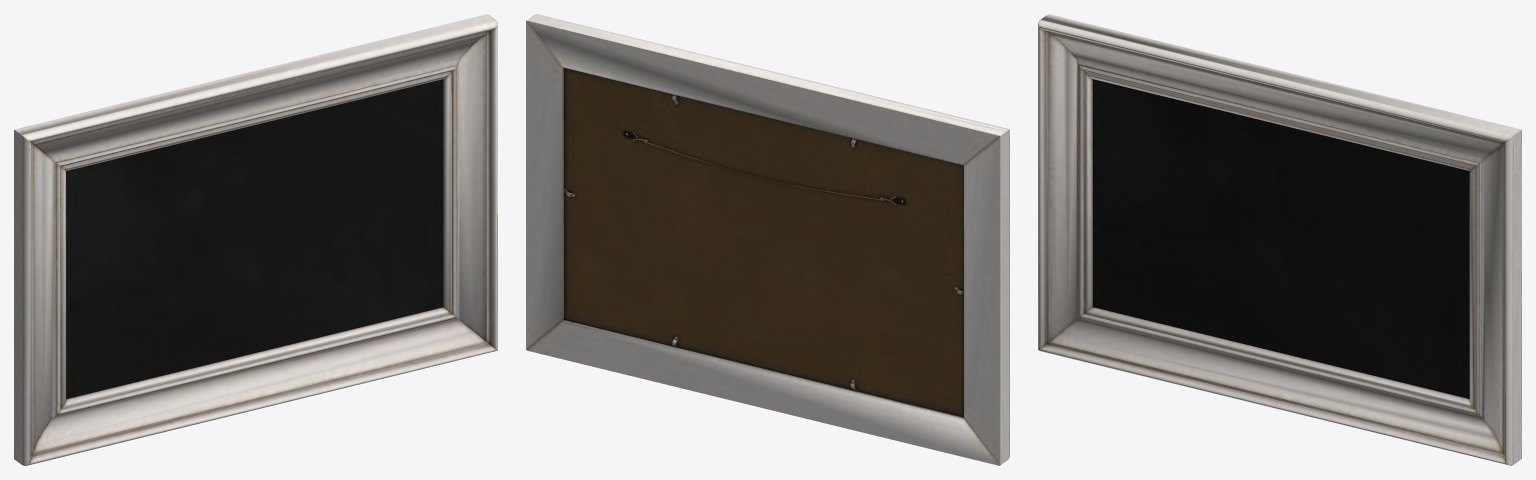
The model's file is hanging_picture_frame_02.gltf.
3 views of the same model, side by side, from view 1: azimuth 30°, elevation 25°; view 2: azimuth 150°, elevation 25°; view 3: azimuth 330°, elevation 25° (orthographic).
Parts seen in each view (by area): view 1: hanging_picture_frame_02; view 2: hanging_picture_frame_02; view 3: hanging_picture_frame_02.
Boxes of the visible parts, box(x1,y1,x2,y2) form: hanging_picture_frame_02: box(14, 14, 497, 465); hanging_picture_frame_02: box(526, 14, 1009, 465); hanging_picture_frame_02: box(1038, 14, 1521, 465).
Size of the model in its own units: 0.7518 by 0.5 by 0.0331.
3 materials, 3 textured.
